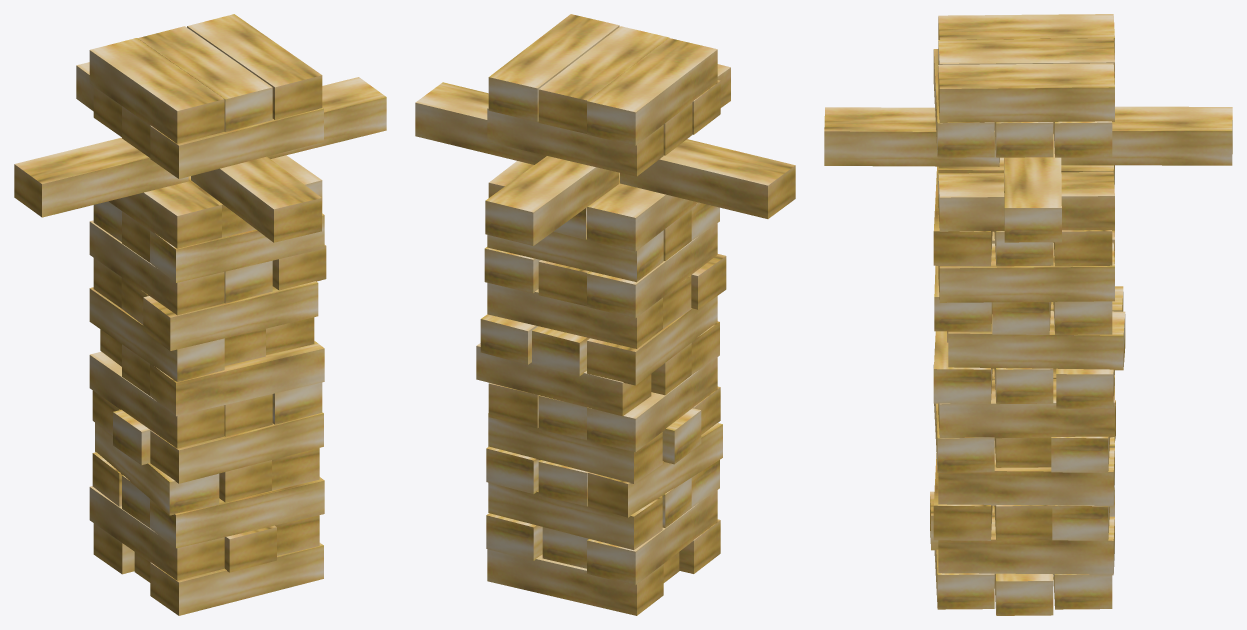
File: zega.FBX
3 views of the same model, side by side, from view 1: azimuth 30°, elevation 25°; view 2: azimuth 150°, elevation 25°; view 3: azimuth 270°, elevation 25° (orthographic). The views are drawn at different scales.
Parts seen in each view (by area): view 1: Object001; view 2: Object001; view 3: Object001.
Part boxes in pixels (box(x1,y1,x2,y2)): Object001: box(14, 14, 386, 615); Object001: box(415, 14, 795, 615); Object001: box(824, 14, 1232, 615).
Size of the model in its own units: 218 by 301 by 214.
